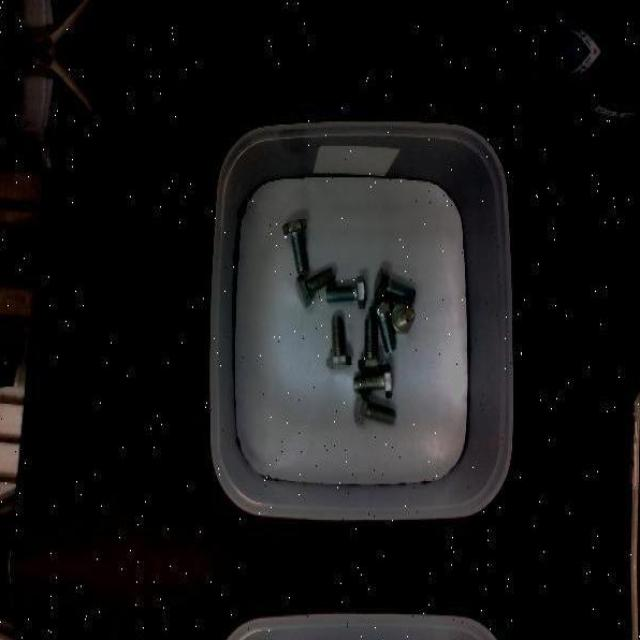screw: (295, 266, 335, 307), (374, 268, 416, 304), (354, 388, 396, 424), (368, 300, 396, 352), (352, 363, 392, 399), (281, 218, 307, 272), (357, 318, 382, 374), (326, 316, 352, 369), (325, 276, 365, 309), (388, 303, 414, 333)
